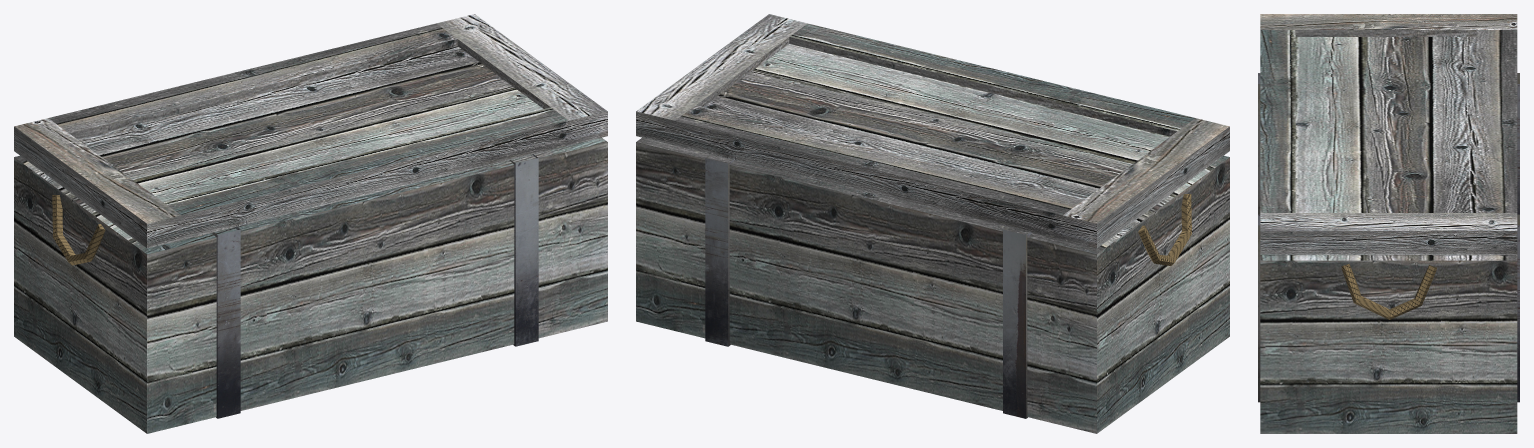
The model's file is crate.glb.
3 views of the same model, side by side, from view 1: azimuth 30°, elevation 25°; view 2: azimuth 150°, elevation 25°; view 3: azimuth 270°, elevation 25° (orthographic). The views are drawn at different scales.
Visible parts, largest first — view 1: $ColladaAutoName$_0; view 2: $ColladaAutoName$_0; view 3: $ColladaAutoName$_0.
Part boxes in pixels (<box>): $ColladaAutoName$_0: <box>14,14,607,433</box>; $ColladaAutoName$_0: <box>636,14,1229,433</box>; $ColladaAutoName$_0: <box>1258,14,1519,433</box>.
Bounding box in the file's own units: 1.64 × 0.6842 × 0.7939.
3 materials, 3 textured.
